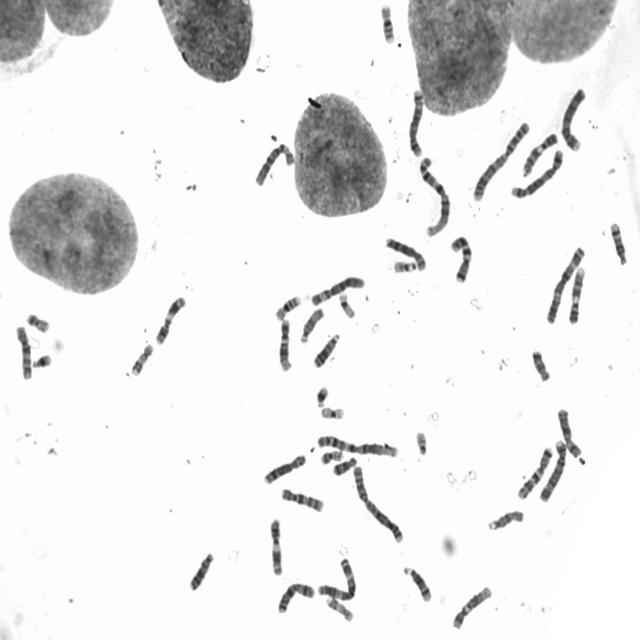A1: (415, 151, 453, 238), (314, 429, 399, 458)
A2: (469, 115, 532, 202), (349, 460, 405, 545)
A3: (542, 240, 587, 326), (314, 553, 358, 601)
B4: (536, 434, 568, 503), (558, 82, 588, 153)
B5: (507, 144, 566, 199), (405, 84, 426, 158)
C10: (278, 482, 326, 514), (12, 319, 34, 382)
C11: (151, 290, 188, 346), (266, 512, 284, 577)
C12: (448, 580, 494, 631), (275, 314, 294, 372)
C6: (251, 137, 296, 187), (308, 271, 367, 307)
C7: (514, 441, 554, 501), (447, 230, 473, 284)
C8: (382, 232, 428, 272), (260, 448, 308, 486)
C9: (519, 127, 560, 177), (565, 261, 587, 325)
D13: (185, 547, 216, 592), (309, 328, 342, 368)
D14: (399, 561, 433, 603), (607, 217, 629, 266)
D15: (296, 302, 326, 345), (484, 505, 525, 532)
E16: (271, 290, 303, 321), (377, 0, 397, 45)
E17: (323, 591, 355, 623), (128, 338, 154, 377)
E18: (528, 344, 552, 382), (329, 452, 358, 476)
F19: (335, 286, 357, 318), (317, 401, 346, 420)
F20: (23, 307, 51, 334), (317, 444, 345, 466)
G21: (28, 348, 53, 370), (312, 381, 331, 409)
G22: (390, 255, 419, 274), (412, 425, 429, 457)
X: (274, 577, 316, 615), (554, 404, 583, 459)
